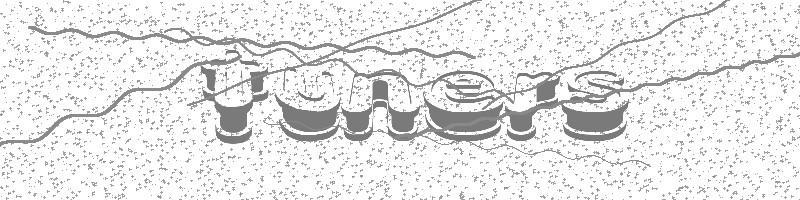e: (424, 70, 503, 140)
n: (342, 72, 419, 142)
r: (507, 72, 561, 140)
s: (563, 71, 629, 141)
t: (202, 51, 268, 144)
u: (276, 67, 341, 142)
